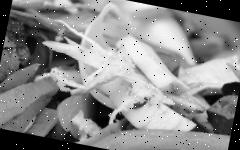organic: (77, 98, 232, 150), (0, 61, 66, 138), (10, 0, 74, 21)
